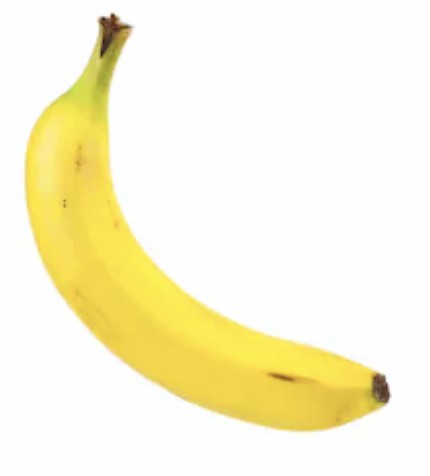fresh_banana: (26, 14, 389, 432)
